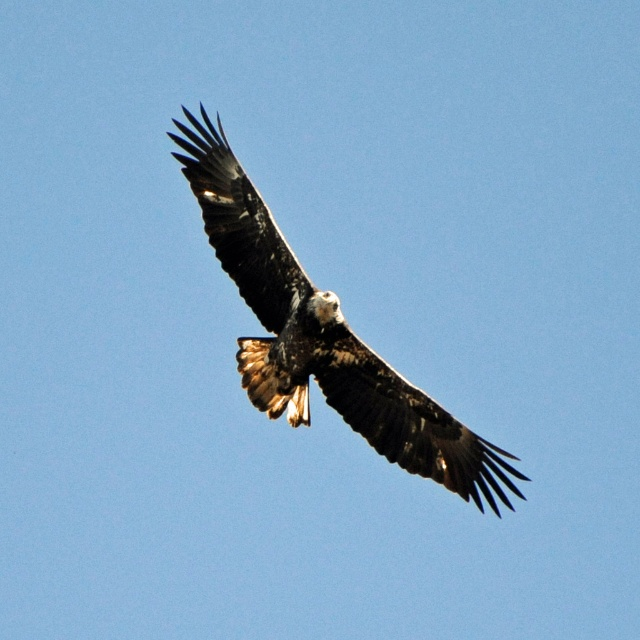Eagle: (165, 101, 533, 519)
